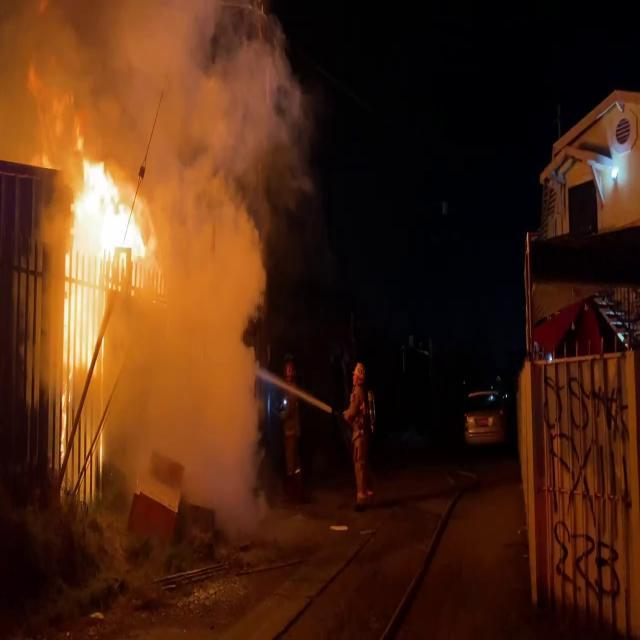Fire: (52, 131, 160, 505)
Smoke: (112, 2, 274, 506)
